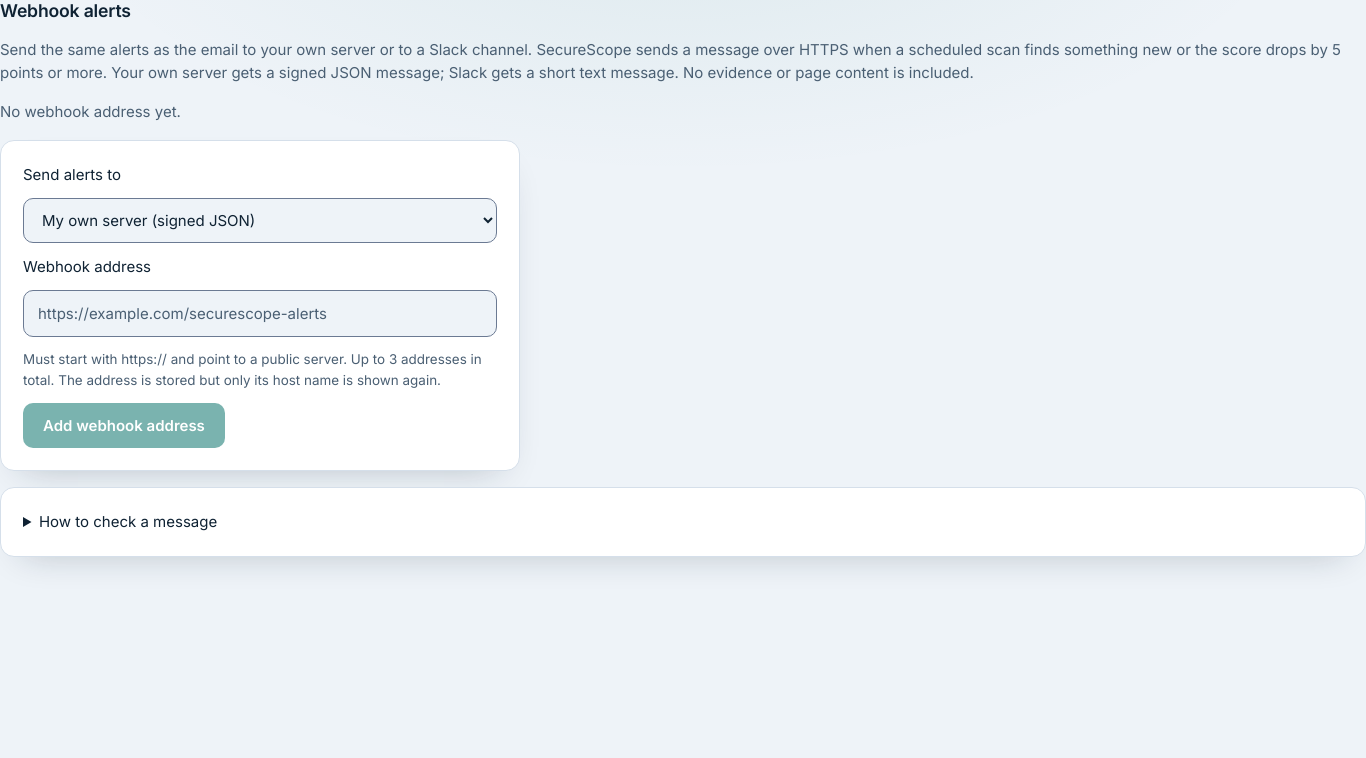
it: webhook alerts › shows the signing secret once after adding an address
Type "https://hooks.example.com/secret-token" into the field labelled "Webhook address" at (260, 314), box x1=23 y1=290 x2=497 y2=338
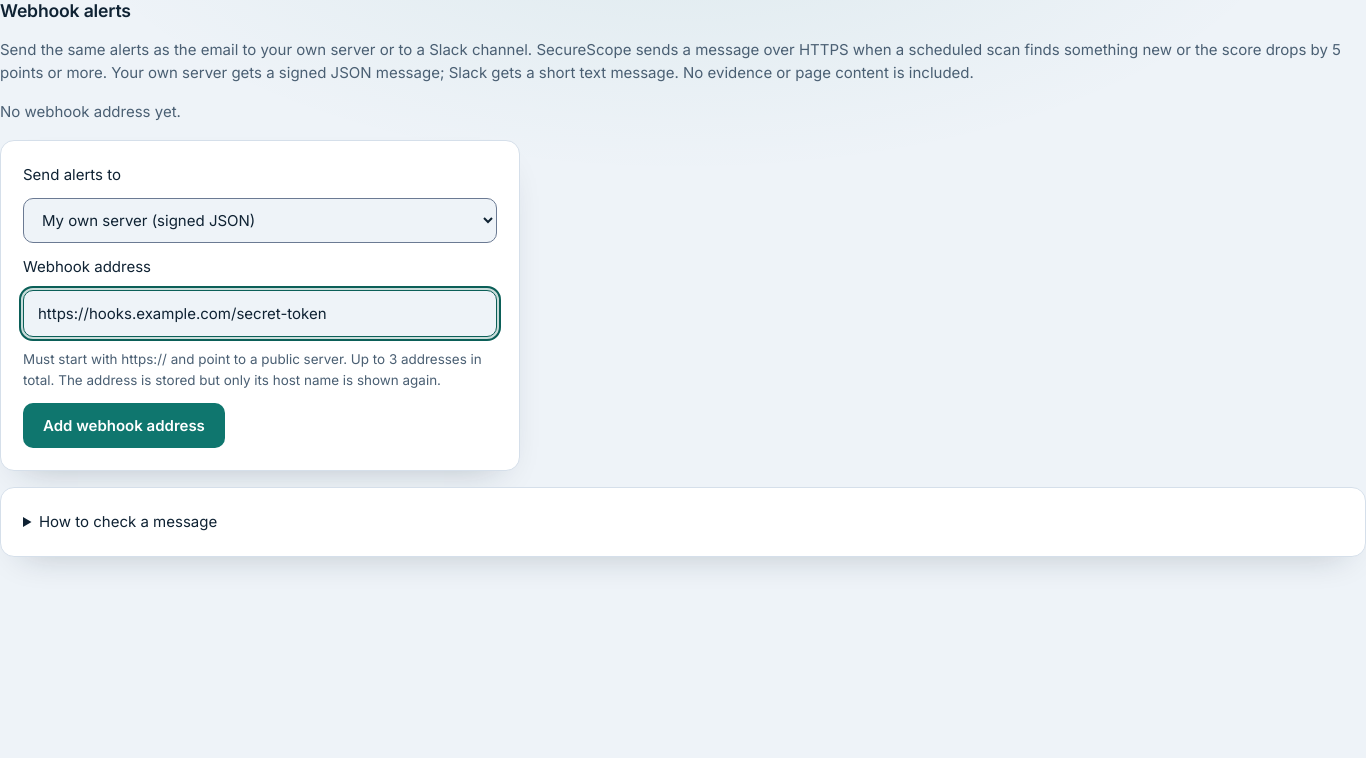
Click the button "Add webhook address" at (124, 426), box x1=23 y1=403 x2=225 y2=448
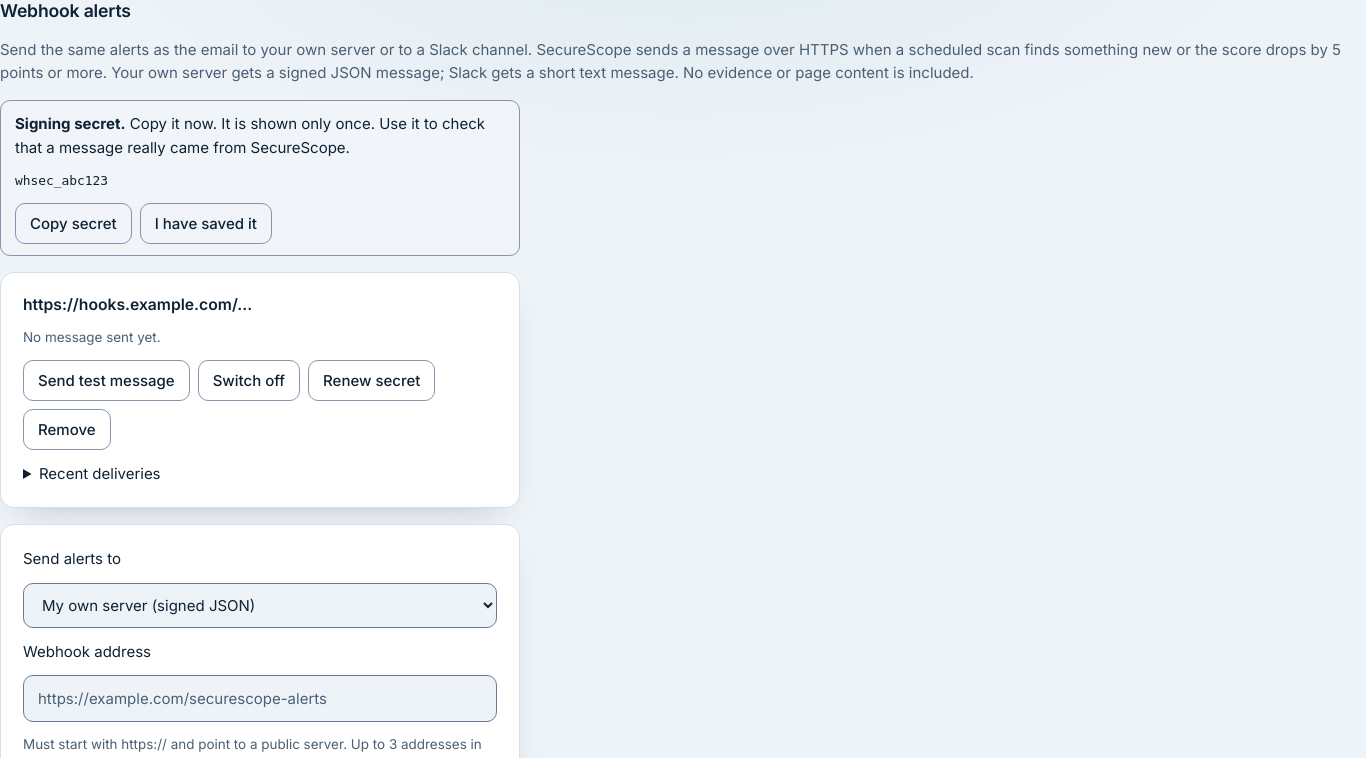
expect the text "secret-token" is not shown: met
expect the text "whsec_abc123" is shown: met, box x1=15 y1=173 x2=108 y2=188
expect the heading "https://hooks.example.com/…" is shown: met, box x1=23 y1=295 x2=252 y2=314
Click the button "I have saved it" at (206, 224), box x1=140 y1=203 x2=272 y2=244
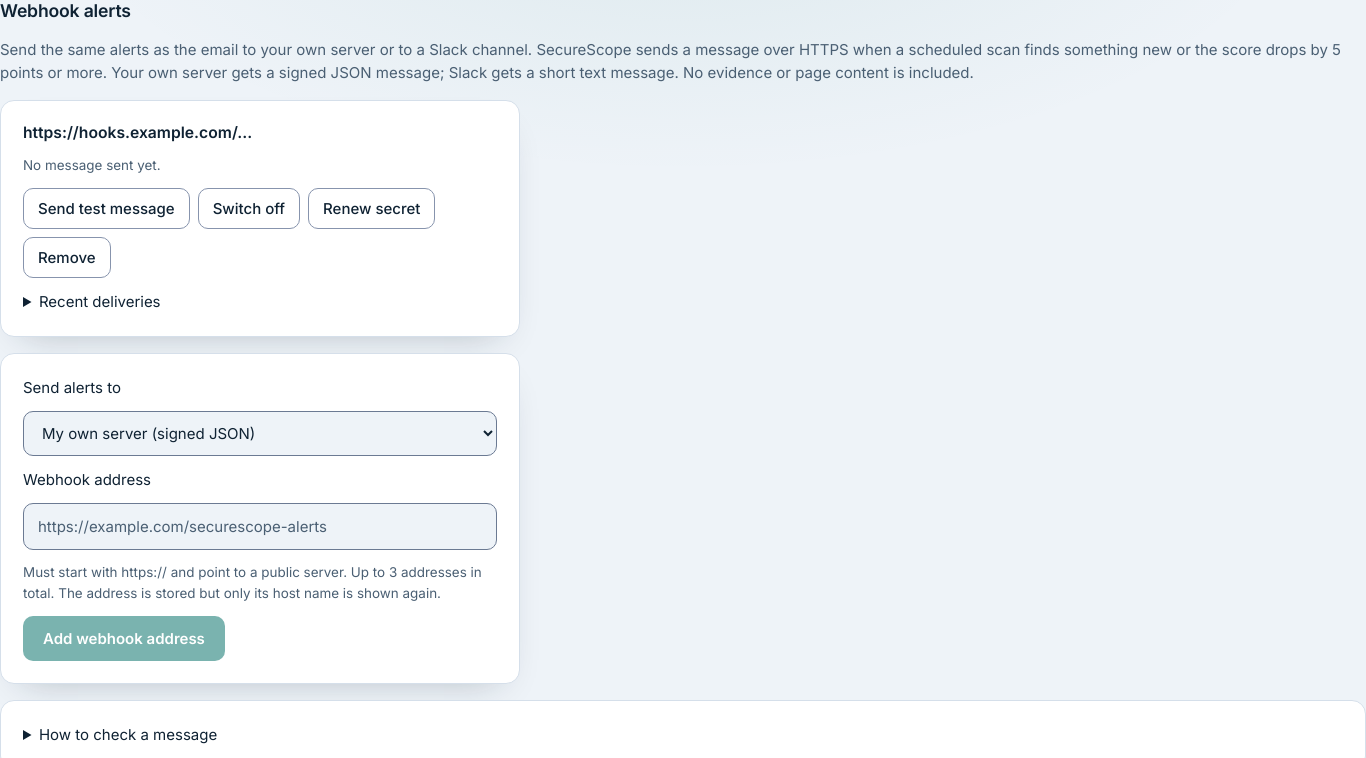
expect the text "whsec_abc123" is gone: met
